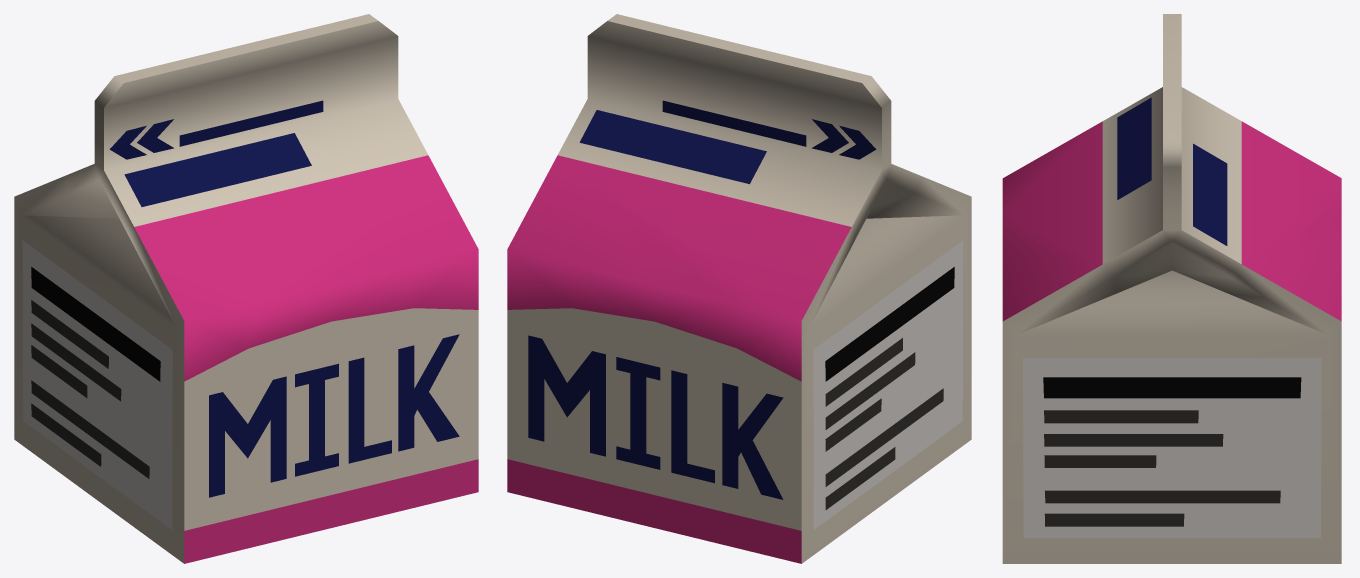
The model's file is grenade_premium_Milk.glb.
3 views of the same model, side by side, from view 1: azimuth 30°, elevation 25°; view 2: azimuth 150°, elevation 25°; view 3: azimuth 270°, elevation 25° (orthographic).
Visible parts, largest first — view 1: grenade_premium_Milk; view 2: grenade_premium_Milk; view 3: grenade_premium_Milk.
Part boxes in pixels (<box>): grenade_premium_Milk: <box>14,14,478,563</box>; grenade_premium_Milk: <box>507,14,971,563</box>; grenade_premium_Milk: <box>1002,14,1341,563</box>.
Bounding box in the file's own units: 0.1091 × 0.1446 × 0.1087.
